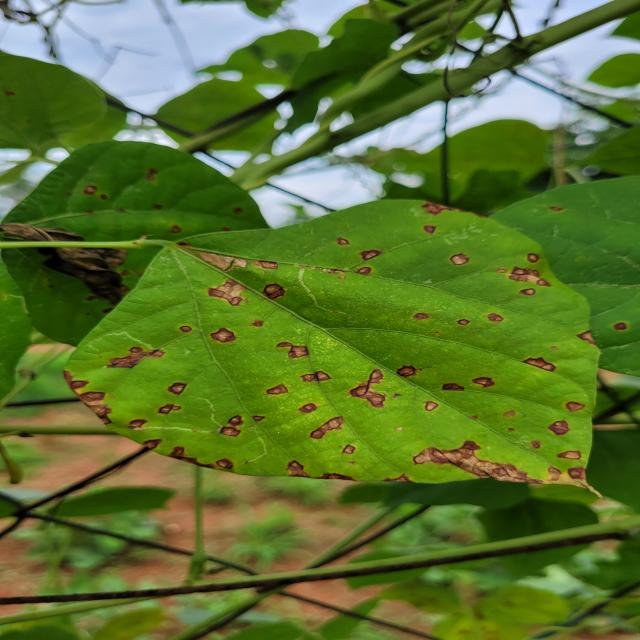Dolicos bean_cercospora leaf spot: (69, 195, 598, 498), (0, 140, 280, 356)
